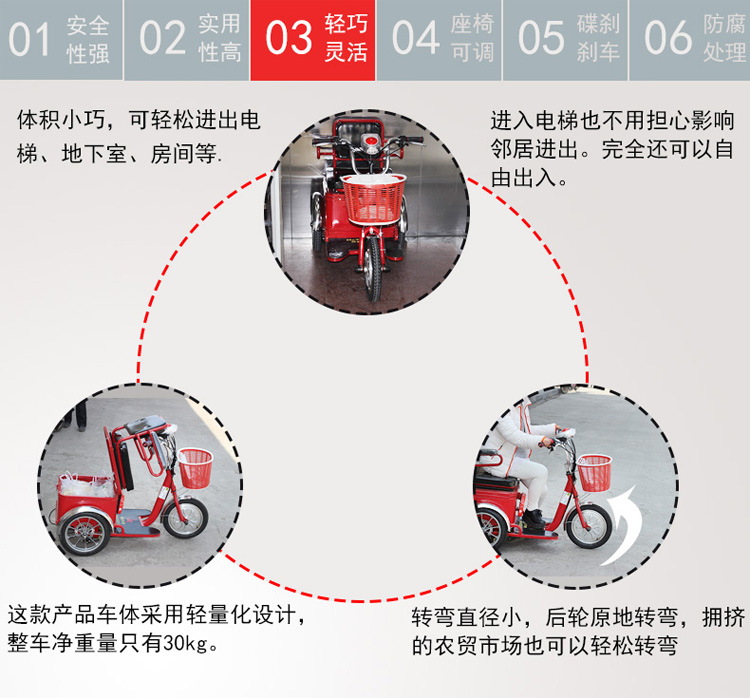电动车: (297, 112, 438, 311), (449, 417, 633, 567), (49, 407, 219, 567)
